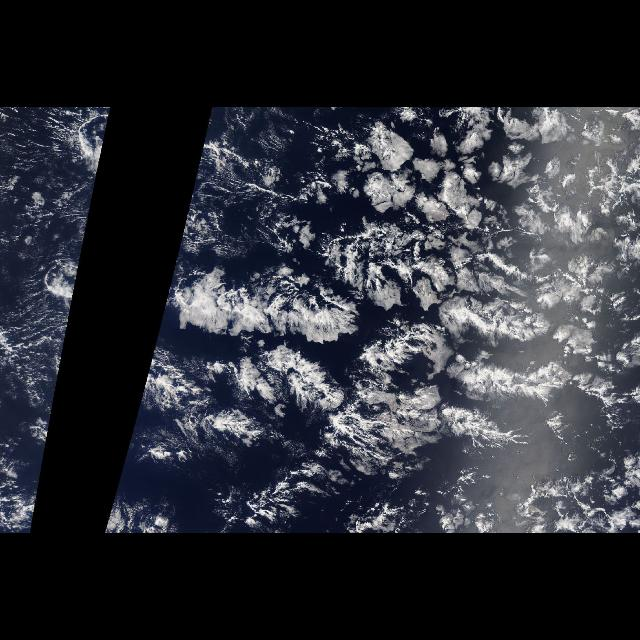Flower: (164, 107, 640, 533)
Sugar: (175, 107, 318, 253), (0, 107, 112, 253)
